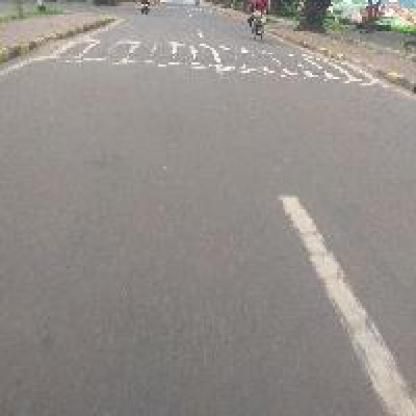Speed Bump: (31, 31, 387, 87)
